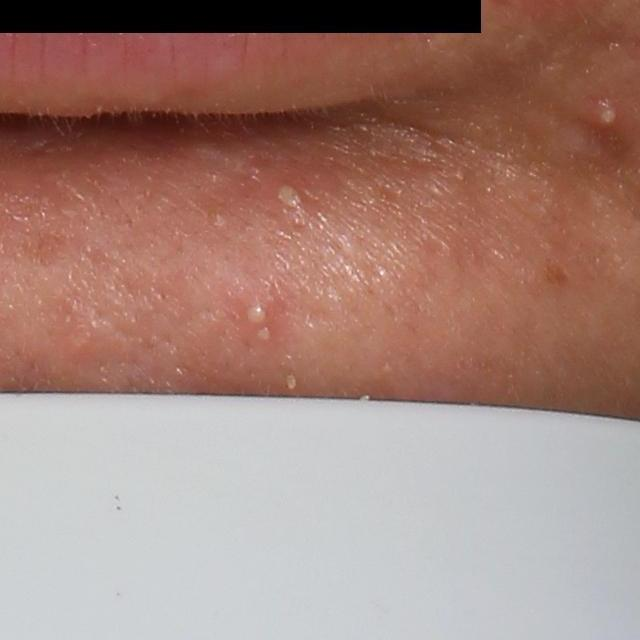pustule: (581, 96, 631, 137), (269, 180, 307, 212), (240, 300, 271, 327), (245, 320, 277, 343)
